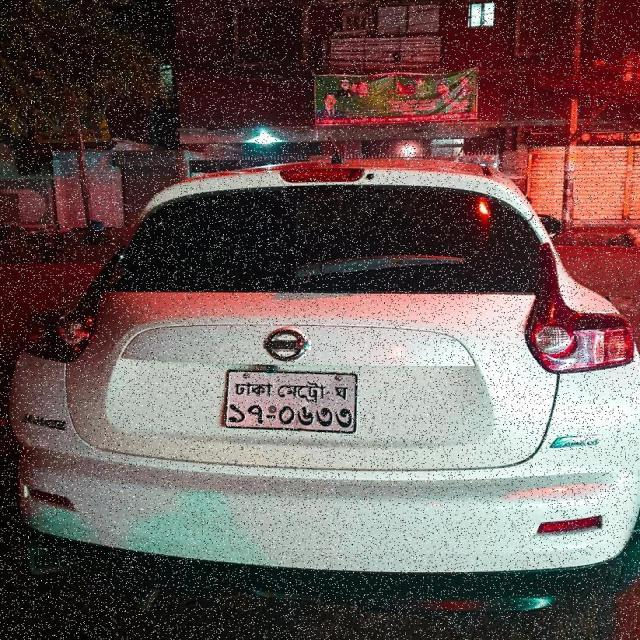numberplate: (222, 369, 357, 433)
